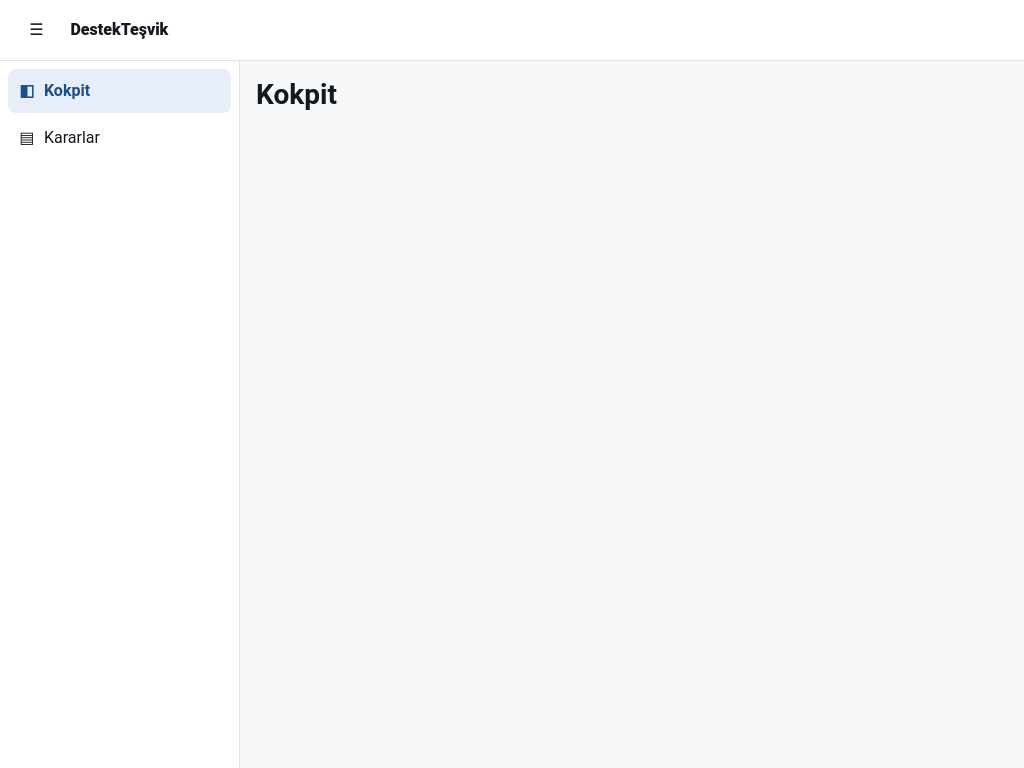
Test: AppShell › toggles the drawer and reports its expanded state
Click the button named "Menüyü aç": (36, 30) 14,8 -> 58,52
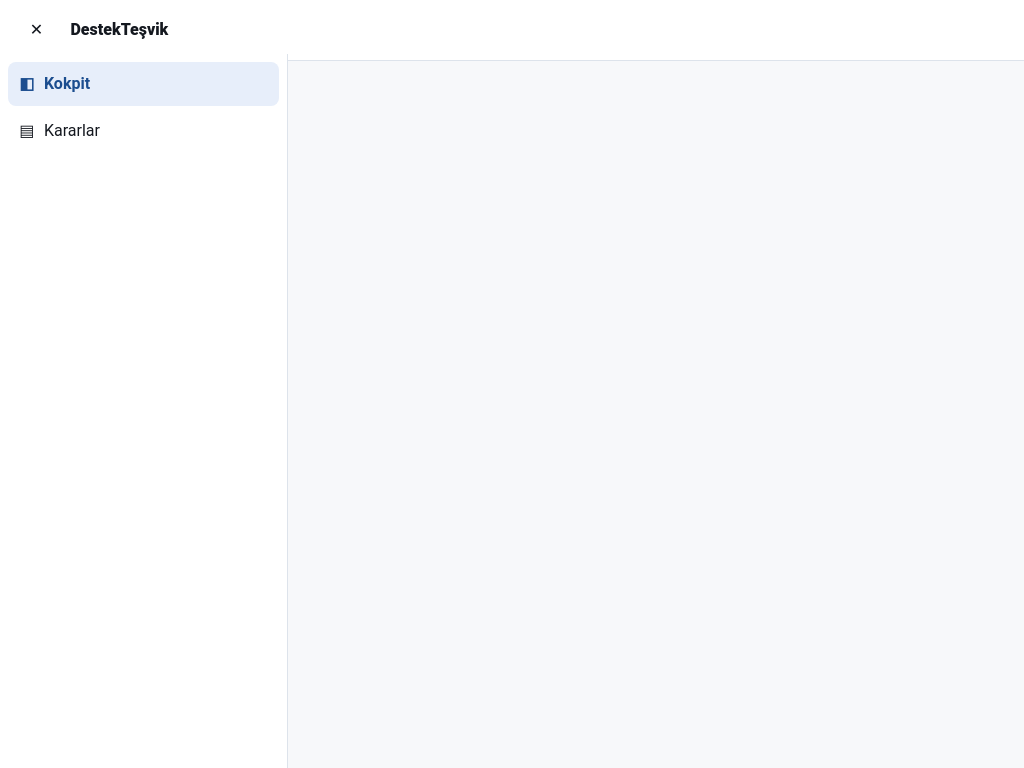
Result: the button named "Menüyü kapat" is expanded at 14,8 -> 58,52
